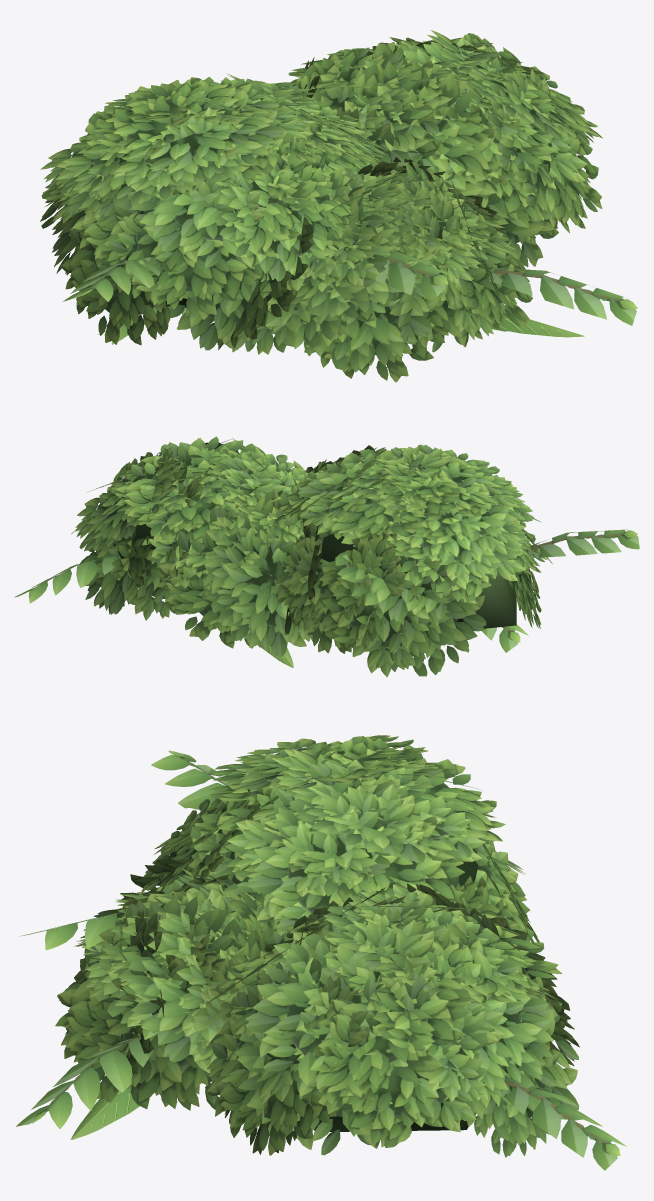
Rendered from bush_b.glb.
The picture shows the model from 3 angles, top to bottom: view 1: azimuth 30°, elevation 25°; view 2: azimuth 150°, elevation 25°; view 3: azimuth 270°, elevation 25°; orthographic projection. The views are drawn at different scales.
Parts seen in each view (by area): view 1: bush_b_mesh; view 2: bush_b_mesh; view 3: bush_b_mesh.
Boxes of the visible parts, x1,y1,x2,y2 form: bush_b_mesh: (40, 30, 637, 382); bush_b_mesh: (14, 436, 639, 677); bush_b_mesh: (16, 735, 626, 1170).
Bounding box in the file's own units: 1.98 × 0.6942 × 1.53.
1 material, 1 textured.
